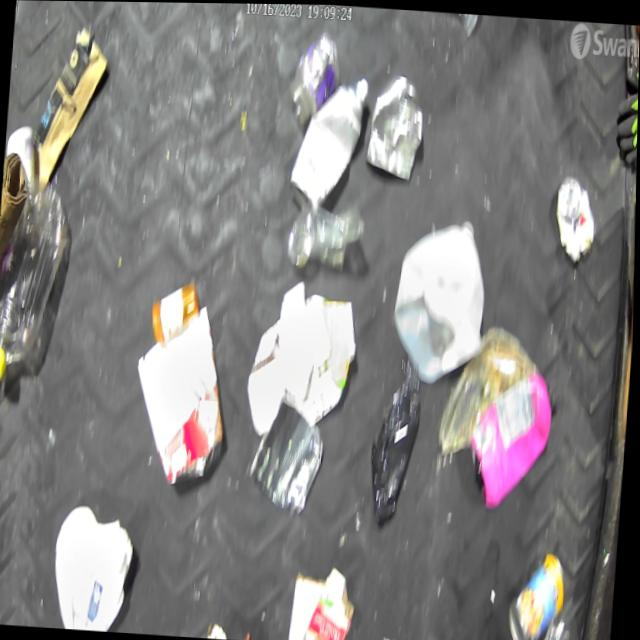can: (288, 70, 370, 215), (249, 395, 331, 518), (366, 70, 433, 185), (507, 545, 573, 640), (285, 27, 344, 127), (551, 174, 600, 267)
milk_jug: (387, 212, 495, 388), (50, 502, 141, 633)
non_white_jug: (469, 366, 559, 514)
plastic_bottle: (0, 172, 76, 390), (287, 202, 365, 271)
